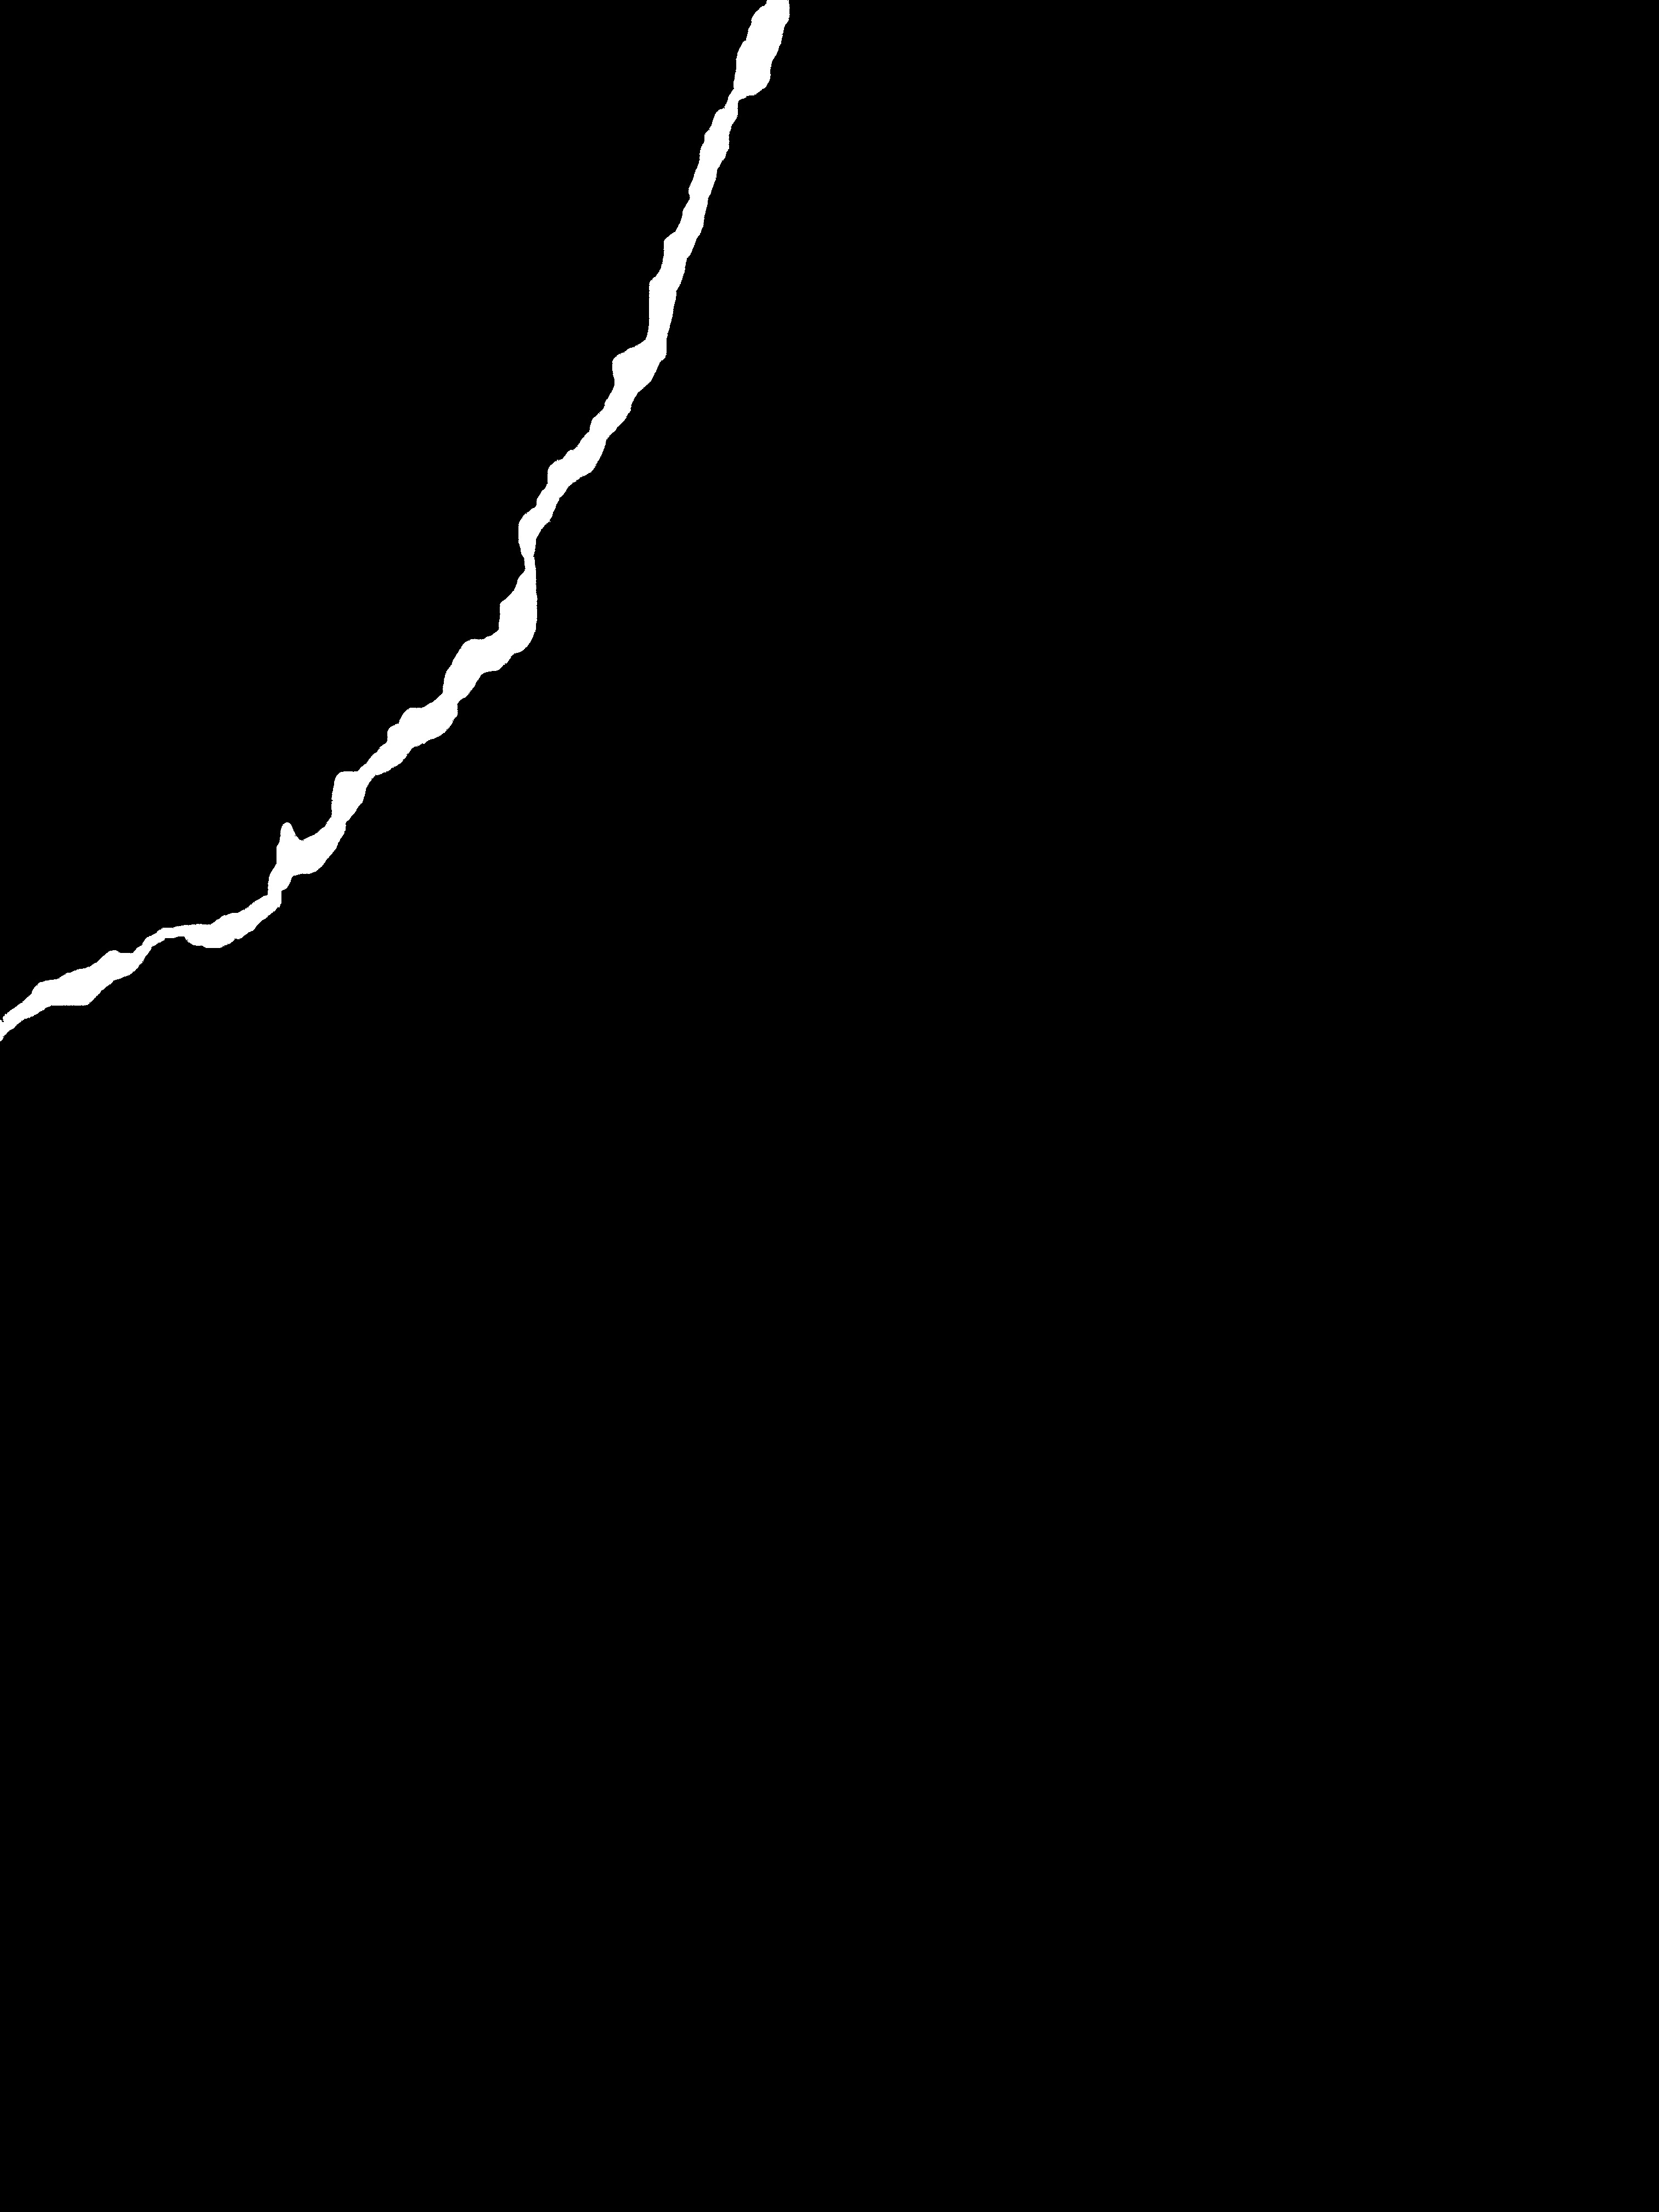Crack: (0, 0, 812, 1047)
